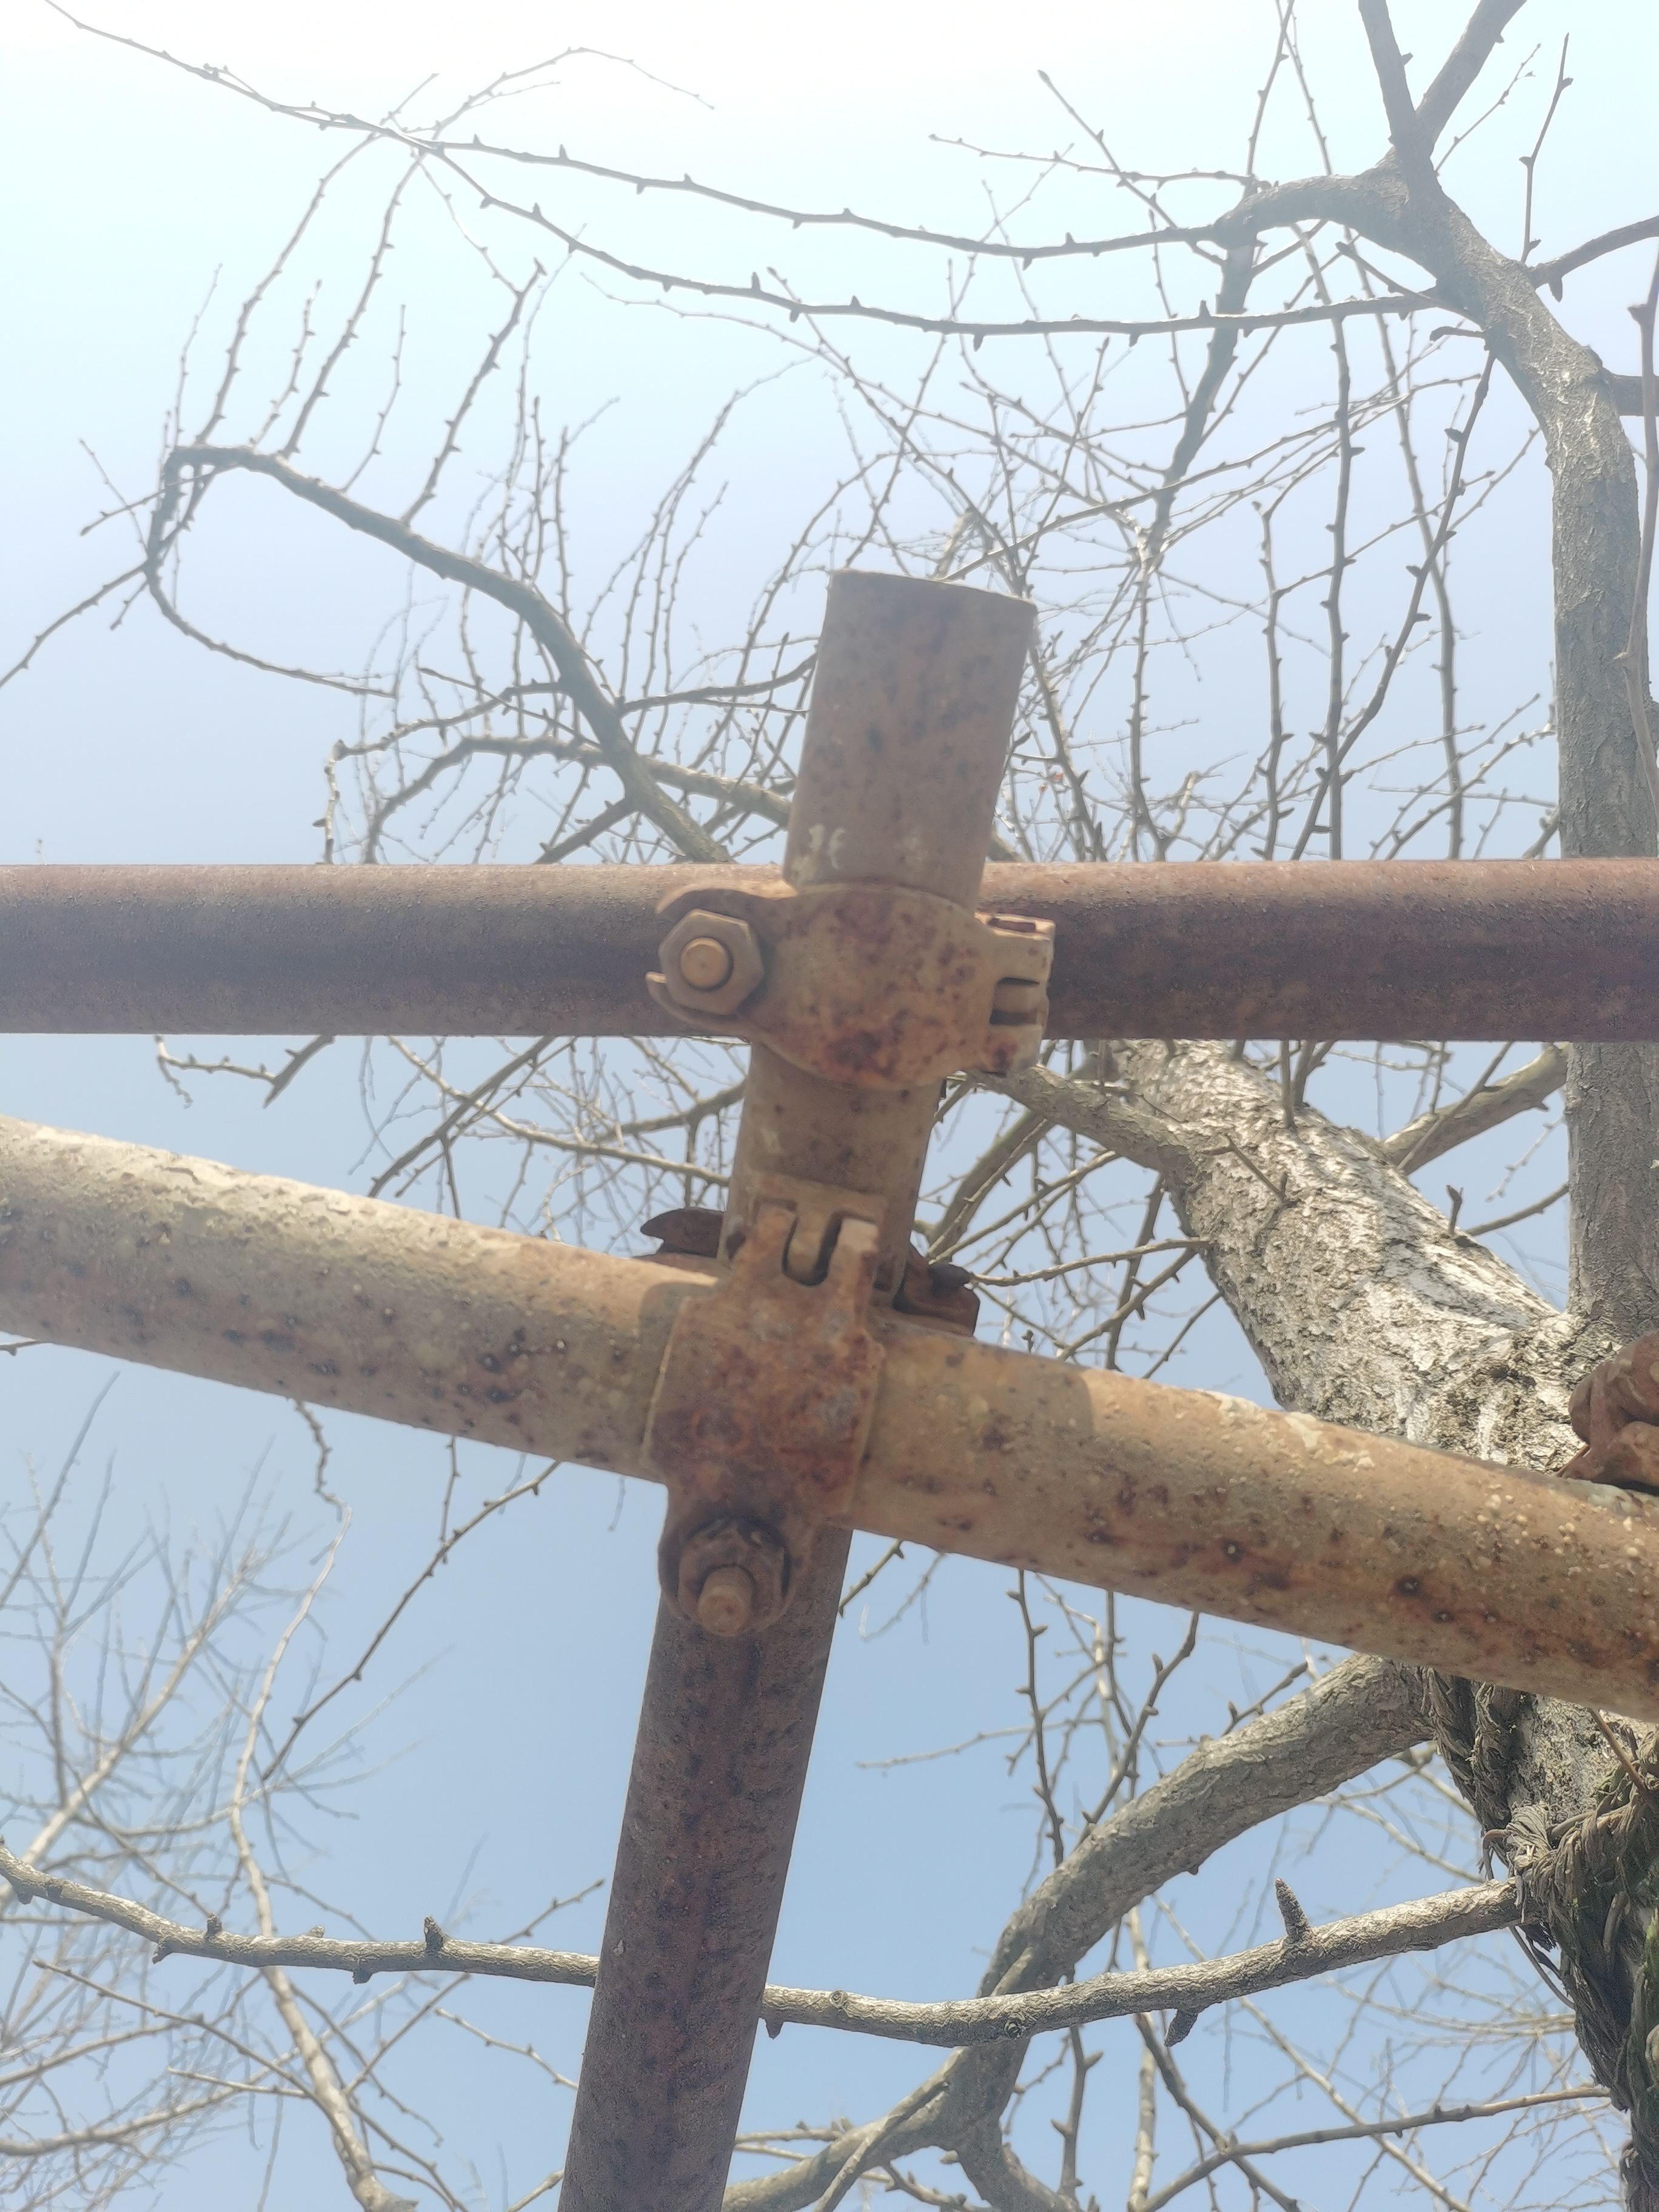bolt_b: (669, 1515, 793, 1642), (652, 904, 769, 1022)
